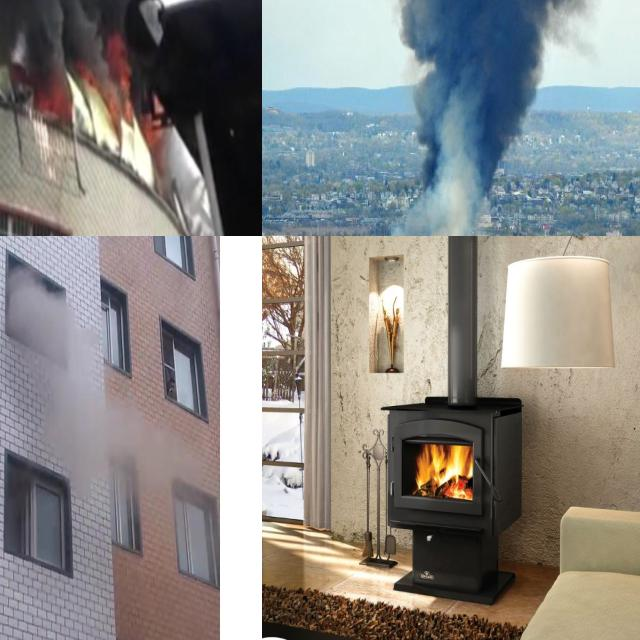fire: (415, 440, 472, 500), (370, 285, 402, 324)
smoke: (329, 0, 640, 236), (4, 272, 203, 498), (0, 0, 174, 95)
